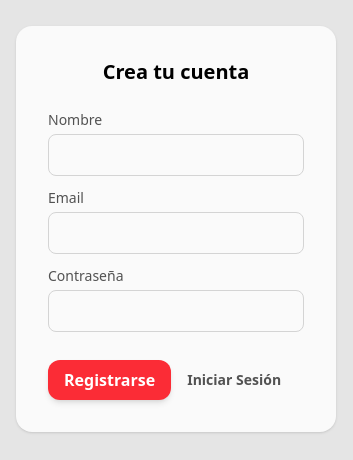
Test case: RegisterForm › debería mostrar un mensaje de error si el backend falla
The image size is (353, 460).
Type "Héctor" into the field labelled "Nombre".
click(176, 155); type("Héctor")  # box [48, 134, 304, 176]
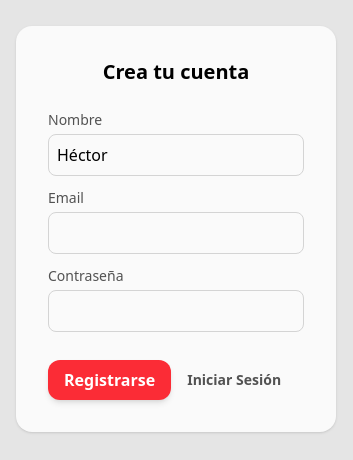
Type "hector@test.com" into the field labelled "Email".
click(176, 233); type("hector@test.com")  # box [48, 212, 304, 254]
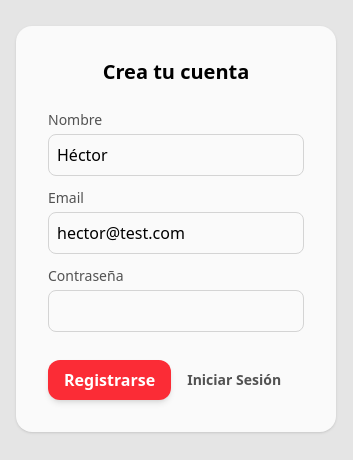
Type "123456" into the password field labelled "Contraseña".
click(176, 311); type("123456")  # box [48, 290, 304, 332]
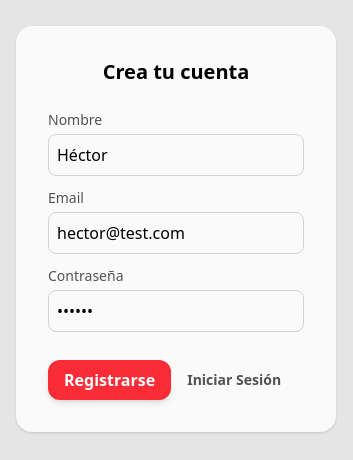
Click the button "Registrarse".
click(110, 380)  # box [48, 360, 171, 400]
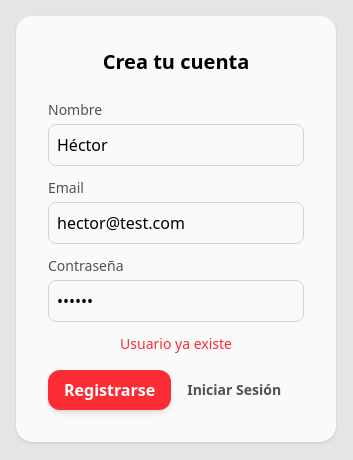
Check: the text "Usuario ya existe" is shown, box [120, 334, 232, 353]
